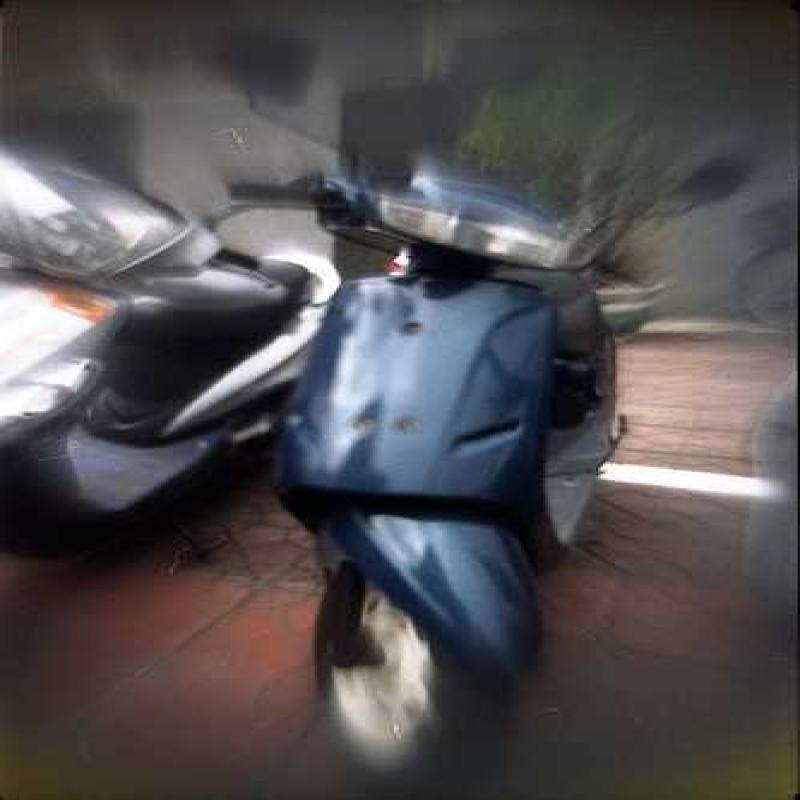bike: (232, 75, 622, 767)
